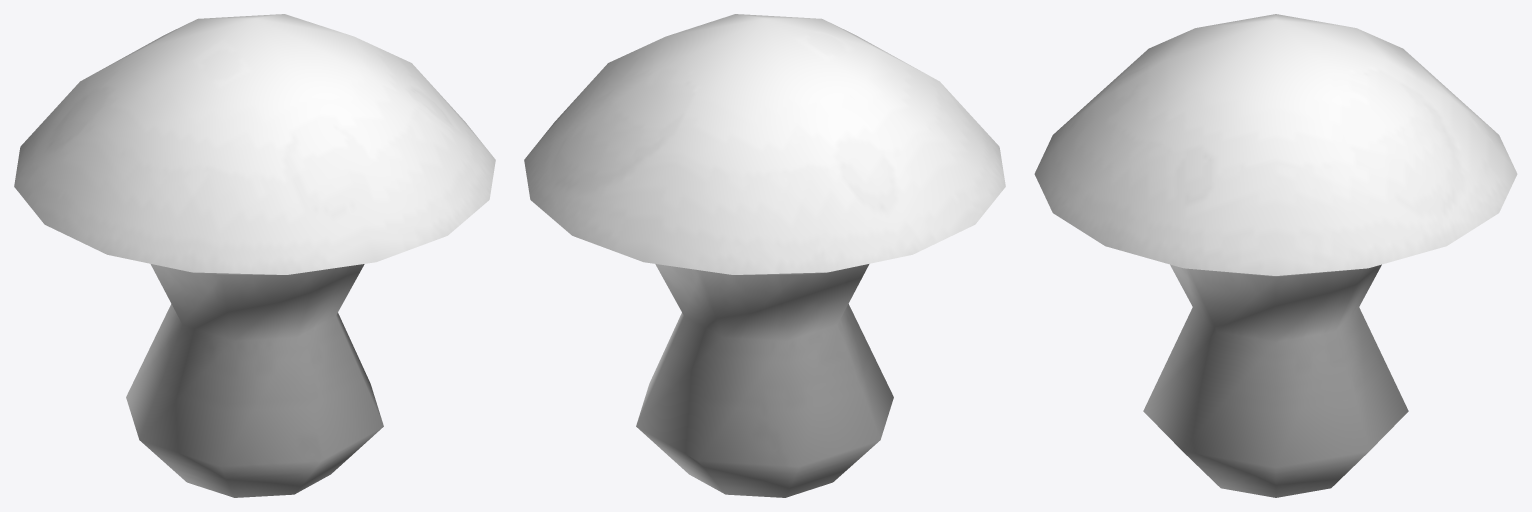
The model's file is FloorDeco1B-006_02_11_8303.fbx.
3 views of the same model, side by side, from view 1: azimuth 30°, elevation 25°; view 2: azimuth 150°, elevation 25°; view 3: azimuth 270°, elevation 25° (orthographic).
Parts seen in each view (by area): view 1: Shroom1 (1); view 2: Shroom1 (1); view 3: Shroom1 (1).
Boxes of the visible parts, x1,y1,x2,y2 form: Shroom1 (1): (14, 14, 495, 497); Shroom1 (1): (524, 14, 1005, 497); Shroom1 (1): (1034, 14, 1517, 497).
Bounding box in the file's own units: 0.7216 × 0.7327 × 0.7216.
